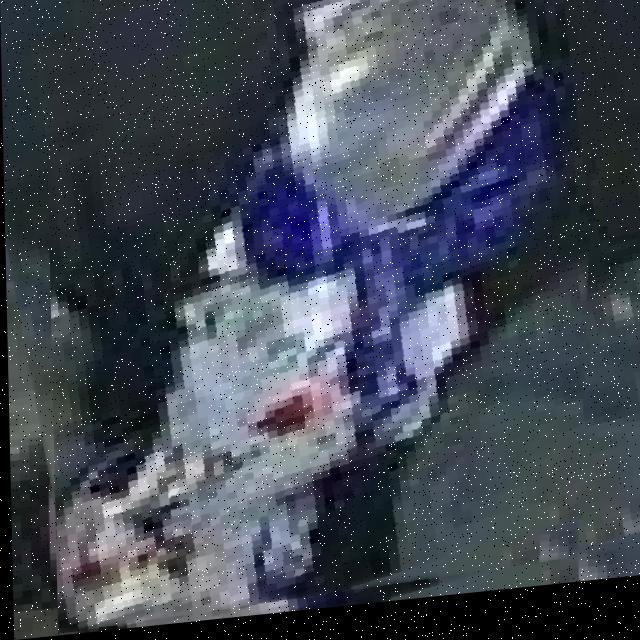can: (52, 0, 600, 635)
